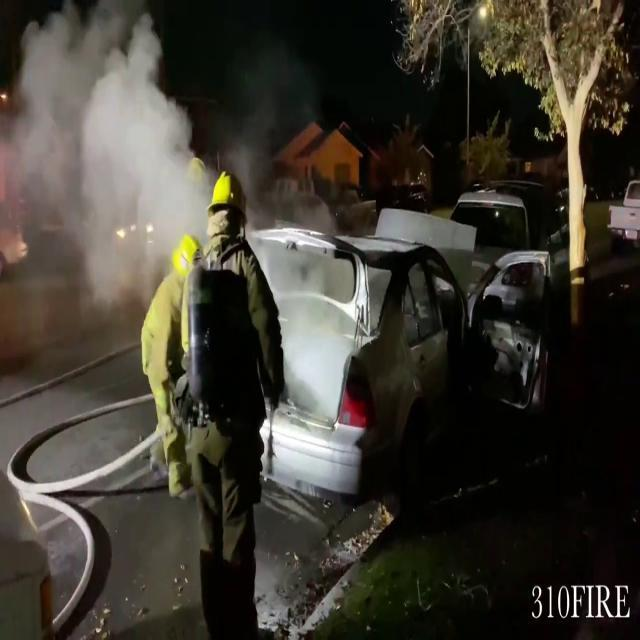Smoke: (0, 1, 197, 378)
